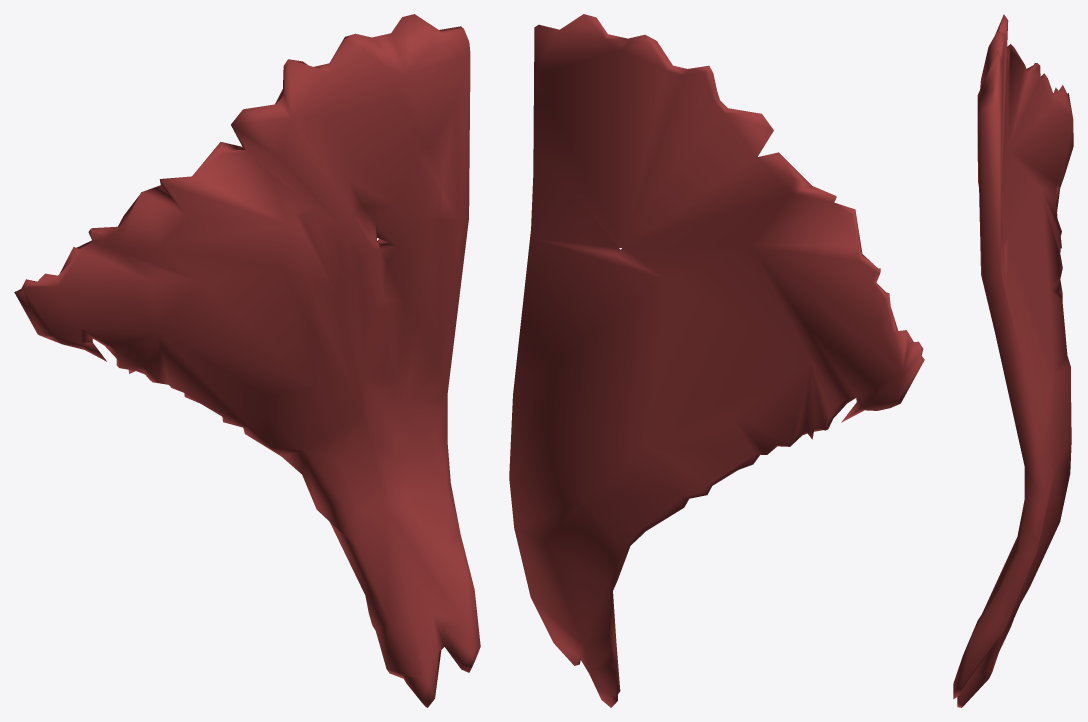
The model's file is procerus-muscle-r.glb.
The picture shows the model from 3 angles, left to right: view 1: azimuth 30°, elevation 25°; view 2: azimuth 150°, elevation 25°; view 3: azimuth 270°, elevation 25°; orthographic projection. The views are drawn at different scales.
Parts seen in each view (by area): view 1: Procerus muscle.r; view 2: Procerus muscle.r; view 3: Procerus muscle.r.
Boxes of the visible parts, box(x1,y1,x2,y2) form: Procerus muscle.r: box(14, 14, 480, 707); Procerus muscle.r: box(509, 14, 924, 707); Procerus muscle.r: box(953, 14, 1073, 707).
Size of the model in its own units: 0.0232 by 0.0365 by 0.00609.
